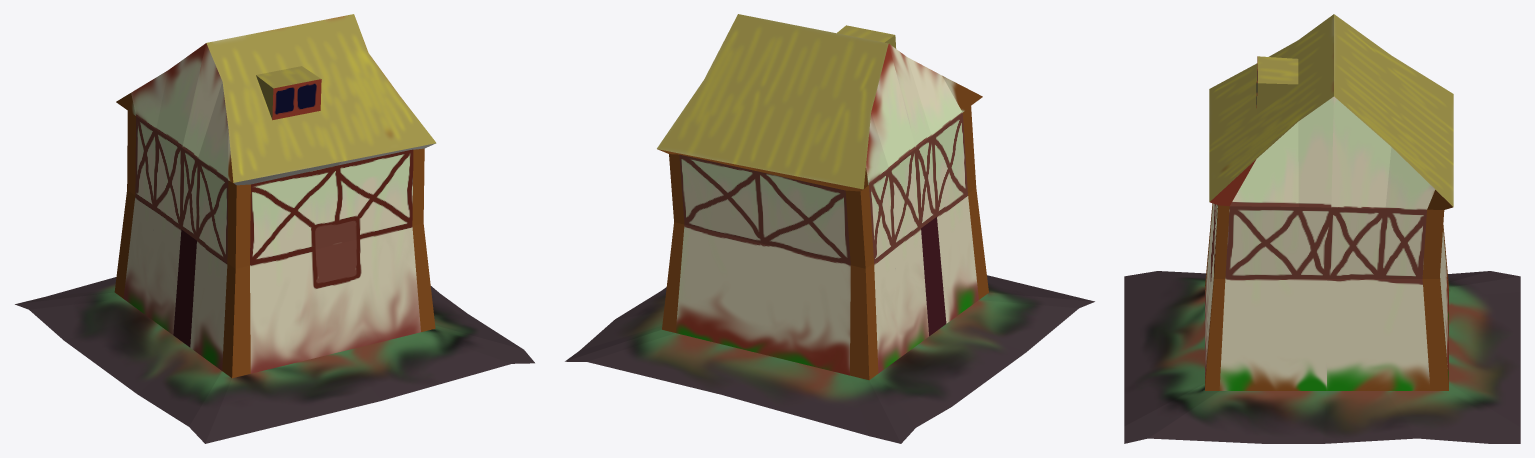
The model's file is House1.fbx.
3 views of the same model, side by side, from view 1: azimuth 30°, elevation 25°; view 2: azimuth 150°, elevation 25°; view 3: azimuth 270°, elevation 25° (orthographic). The views are drawn at different scales.
Parts seen in each view (by area): view 1: House1; view 2: House1; view 3: House1.
Boxes of the visible parts, bbox=[...] form: House1: bbox=[15, 14, 534, 443]; House1: bbox=[565, 14, 1094, 443]; House1: bbox=[1124, 14, 1520, 443].
Bounding box in the file's own units: 325 × 284 × 325.
